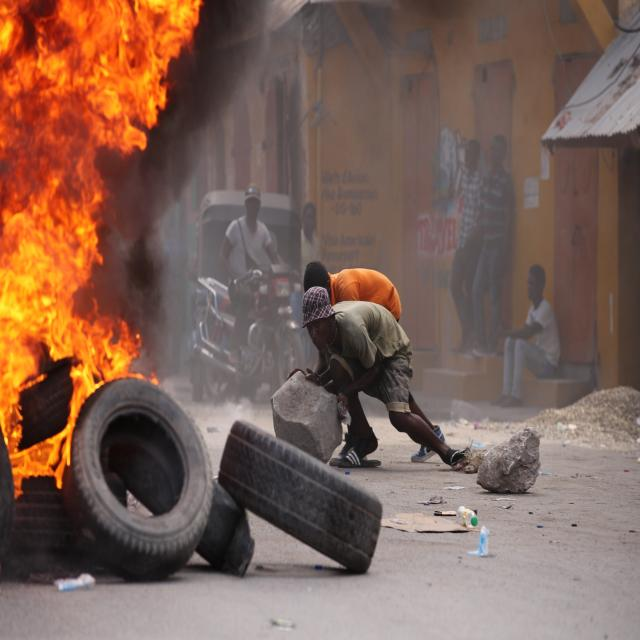fire: (0, 0, 203, 497)
